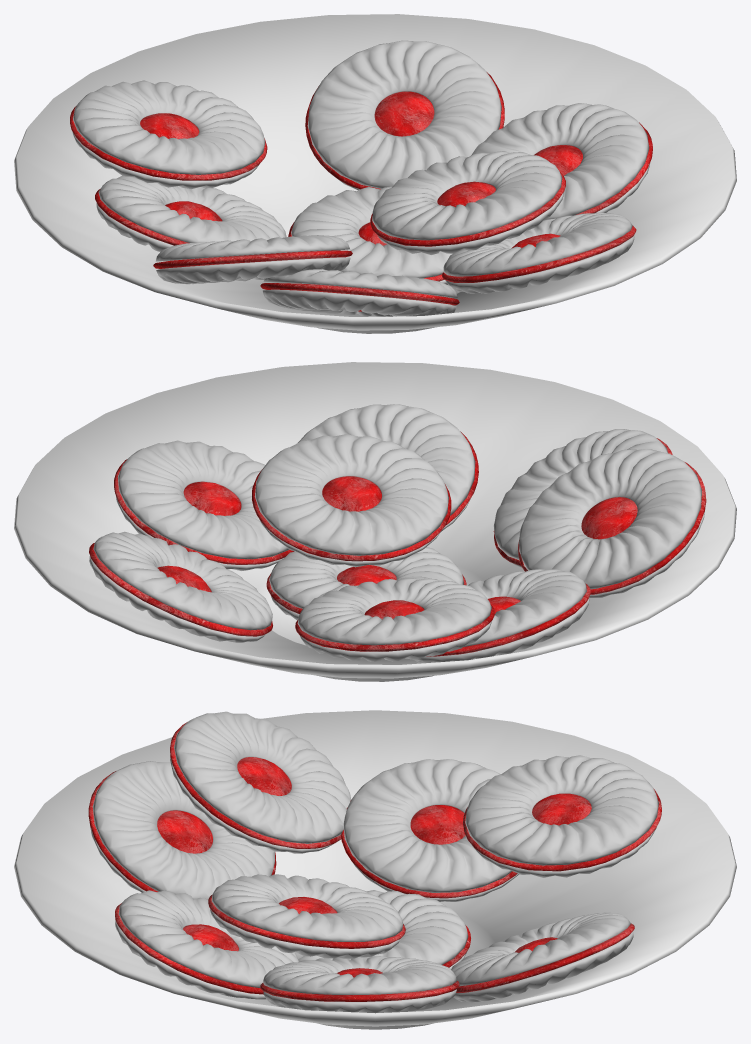
The model's file is biscuit.fbx.
3 views of the same model, one above another, from view 1: azimuth 30°, elevation 25°; view 2: azimuth 150°, elevation 25°; view 3: azimuth 270°, elevation 25° (orthographic).
Visible parts, largest first — view 1: Sphere, Cylinder011.003, Cylinder011.006, Cylinder011.007, Cylinder011.004, Cylinder011.005, Cylinder011, Cylinder011.001, Cylinder011.008, Cylinder011.002; view 2: Sphere, Cylinder011.007, Cylinder011.008, Cylinder011.004, Cylinder011.006, Cylinder011.003, Cylinder011, Cylinder011.005, Cylinder011.002, Cylinder011.001; view 3: Sphere, Cylinder011.006, Cylinder011.008, Cylinder011, Cylinder011.001, Cylinder011.007, Cylinder011.005, Cylinder011.004, Cylinder011.003, Cylinder011.002.
Boxes of the visible parts, x1,y1,x2,y2 form: Sphere: (14, 14, 736, 333); Cylinder011.003: (305, 40, 504, 190); Cylinder011.006: (70, 80, 267, 189); Cylinder011.007: (370, 151, 565, 254); Cylinder011.004: (471, 103, 652, 220); Cylinder011.005: (442, 212, 636, 293); Cylinder011: (95, 176, 286, 251); Cylinder011.001: (260, 269, 459, 316); Cylinder011.008: (153, 235, 352, 284); Cylinder011.002: (288, 186, 452, 284); Sphere: (14, 362, 736, 681); Cylinder011.007: (252, 434, 451, 567); Cylinder011.008: (518, 449, 706, 597); Cylinder011.004: (114, 440, 294, 570); Cylinder011.006: (295, 578, 494, 661); Cylinder011.003: (89, 531, 272, 642); Cylinder011: (414, 569, 590, 663); Cylinder011.005: (298, 404, 478, 532); Cylinder011.002: (266, 547, 466, 620); Cylinder011.001: (493, 429, 672, 567); Sphere: (14, 710, 736, 1029); Cylinder011.006: (463, 755, 661, 877); Cylinder011.008: (170, 711, 351, 853); Cylinder011: (341, 759, 519, 901); Cylinder011.001: (88, 761, 276, 899); Cylinder011.007: (208, 874, 405, 958); Cylinder011.005: (115, 890, 298, 999); Cylinder011.004: (260, 956, 459, 1013); Cylinder011.003: (451, 912, 634, 1002); Cylinder011.002: (295, 890, 470, 969).
Bounding box in the file's own units: 11.11 × 2.61 × 11.11.
